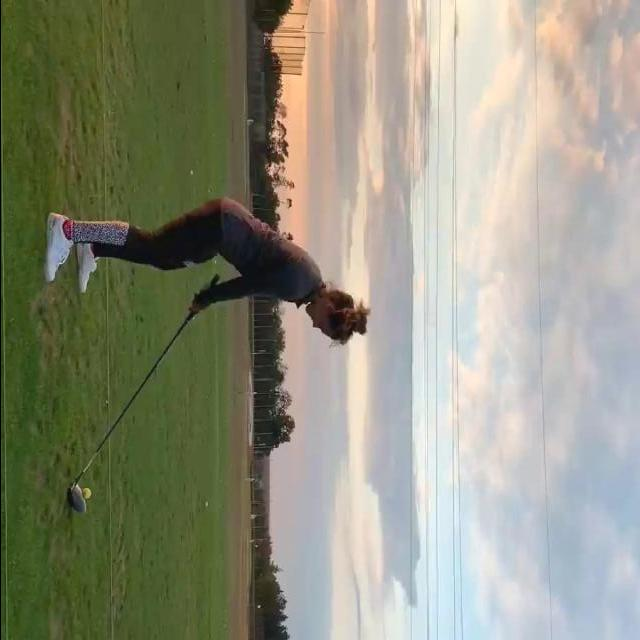golf ball: (81, 489, 90, 499)
golf club-handle: (67, 274, 219, 514)
golf club-head: (67, 484, 85, 514)
